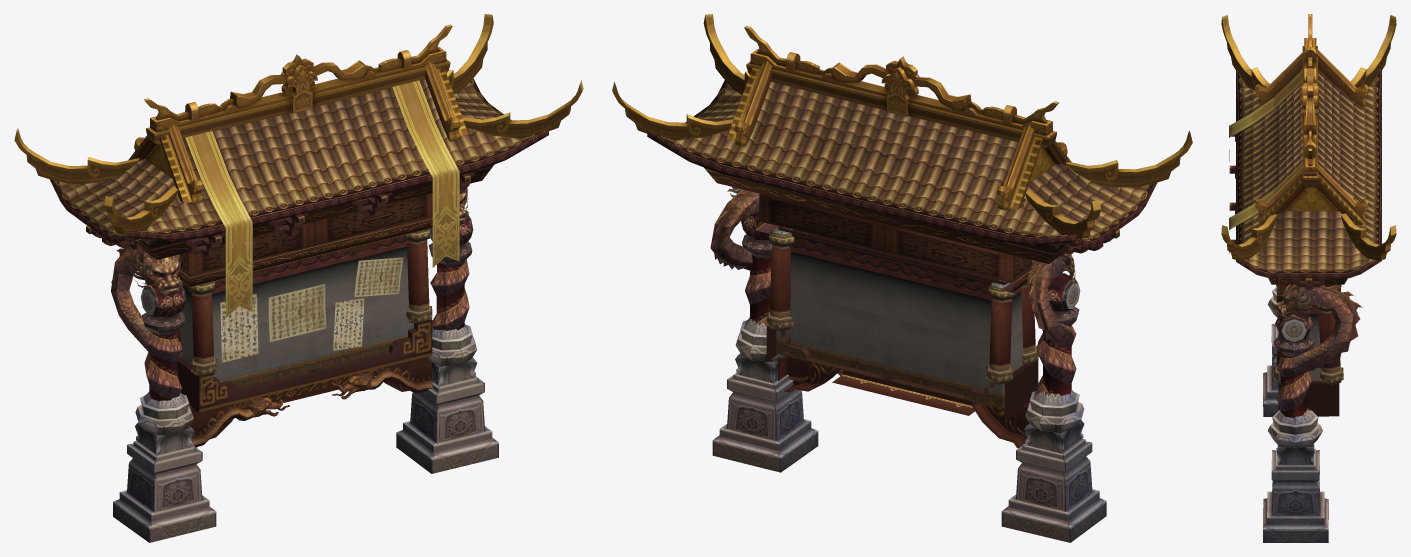
The model's file is ZC_001jgonggaopai.FBX.
3 views of the same model, side by side, from view 1: azimuth 30°, elevation 25°; view 2: azimuth 150°, elevation 25°; view 3: azimuth 270°, elevation 25° (orthographic). The views are drawn at different scales.
Visible parts, largest first — view 1: ZC_001jgonggaopai01, ZC_001jgonggaopai02; view 2: ZC_001jgonggaopai01, ZC_001jgonggaopai02; view 3: ZC_001jgonggaopai01, ZC_001jgonggaopai02.
Boxes of the visible parts, x1=… form: ZC_001jgonggaopai01: x1=14, y1=14, x2=583, y2=542; ZC_001jgonggaopai02: x1=50, y1=78, x2=548, y2=243; ZC_001jgonggaopai01: x1=612, y1=14, x2=1192, y2=542; ZC_001jgonggaopai02: x1=647, y1=80, x2=1156, y2=247; ZC_001jgonggaopai01: x1=1221, y1=14, x2=1396, y2=542; ZC_001jgonggaopai02: x1=1236, y1=68, x2=1381, y2=278.
Bounding box in the file's own units: 6.2 × 5.26 × 2.15.
